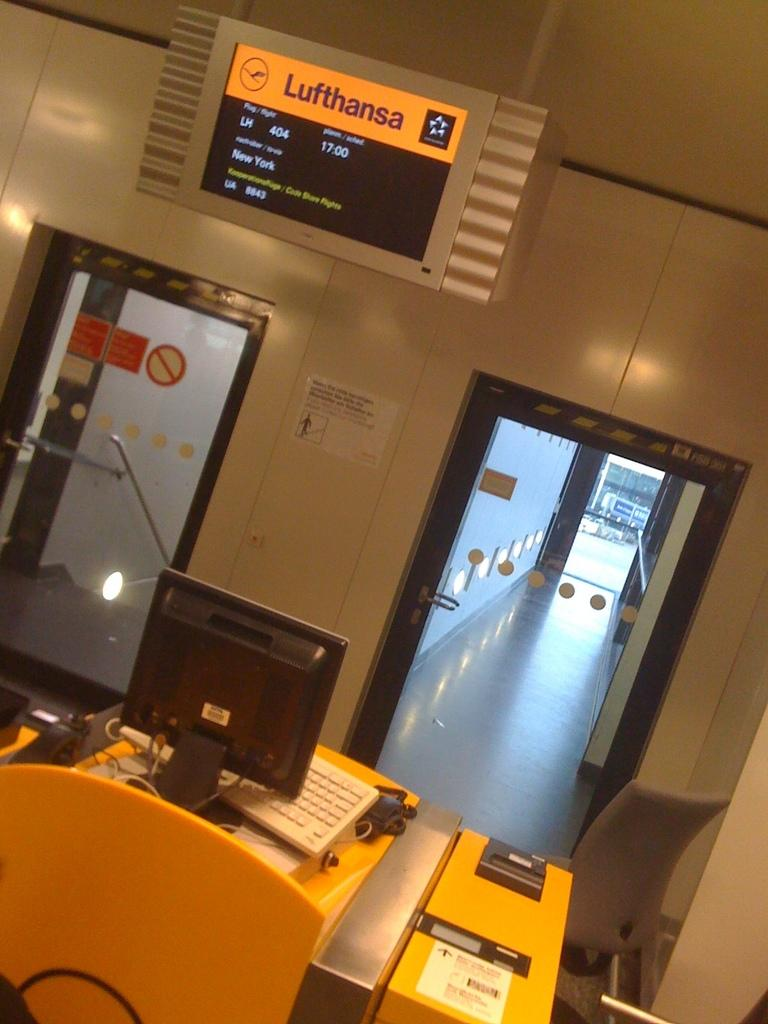Computer-monitor: (156, 602, 344, 810)
